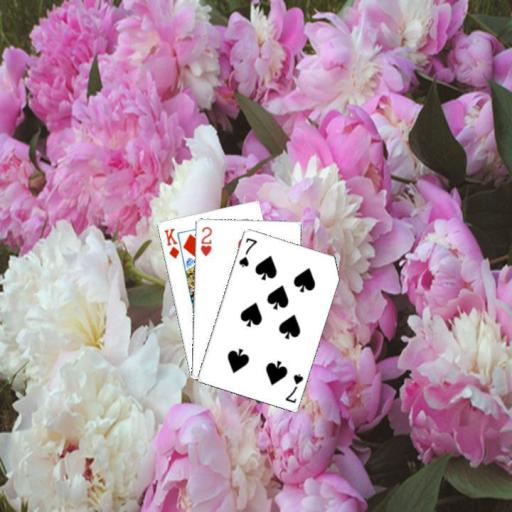2H: (197, 224, 213, 258)
7S: (236, 234, 259, 268), (282, 371, 305, 405)
KD: (161, 225, 181, 260)
